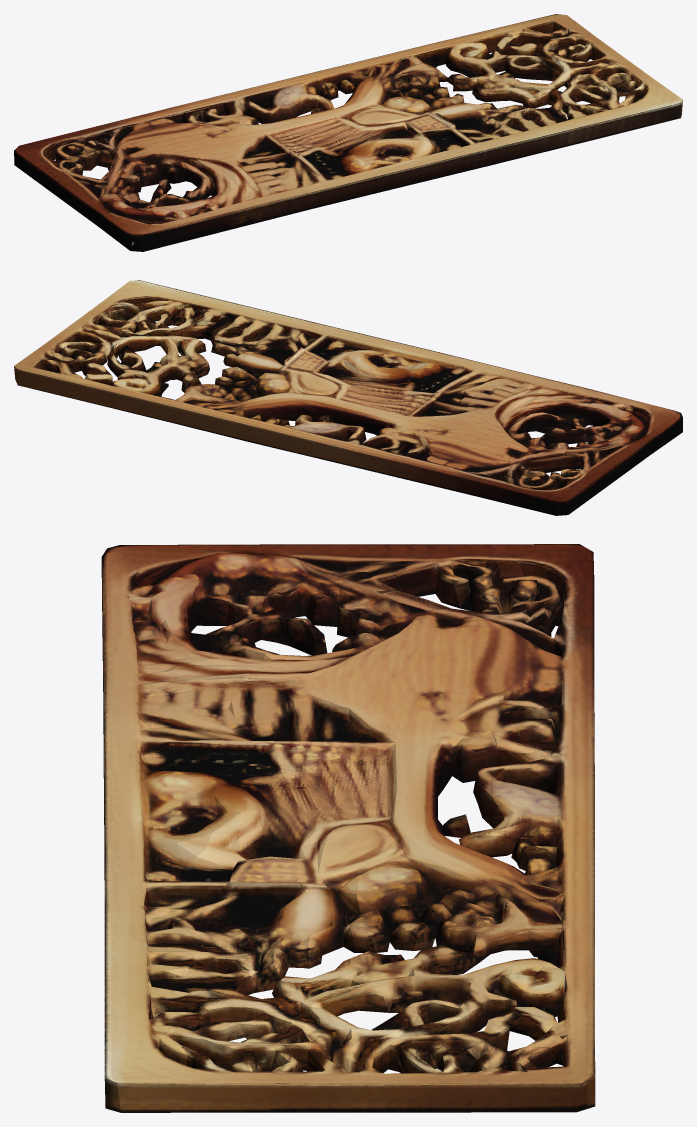
The model's file is wooden-bookmark-horror.jpeg.glb.
3 views of the same model, one above another, from view 1: azimuth 30°, elevation 25°; view 2: azimuth 150°, elevation 25°; view 3: azimuth 270°, elevation 25° (orthographic). The views are drawn at different scales.
Parts seen in each view (by area): view 1: world; view 2: world; view 3: world.
Boxes of the visible parts, x1,y1,x2,y2 form: world: [14, 14, 682, 251]; world: [14, 280, 682, 515]; world: [101, 544, 595, 1112].
Size of the model in its own units: 1 by 0.042 by 0.3865.
1 material, 1 textured.
